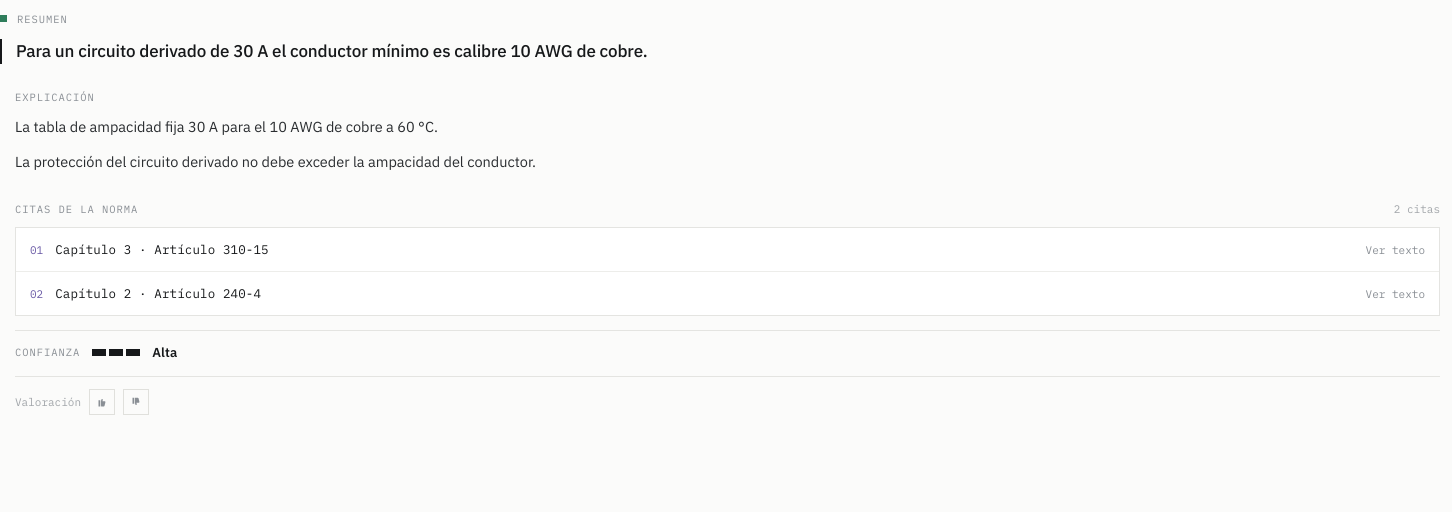
ResponseAnatomy › opens the text of a citation in place, without leaving the conversation
Expected: the text "La ampacidad de los conductores se determina según la tabla 310-15(b)(16)." is not shown
Click the button "01 Capítulo 3 · Artículo 310-15 Ver texto": x=93, y=249 [16,228,1439,271]
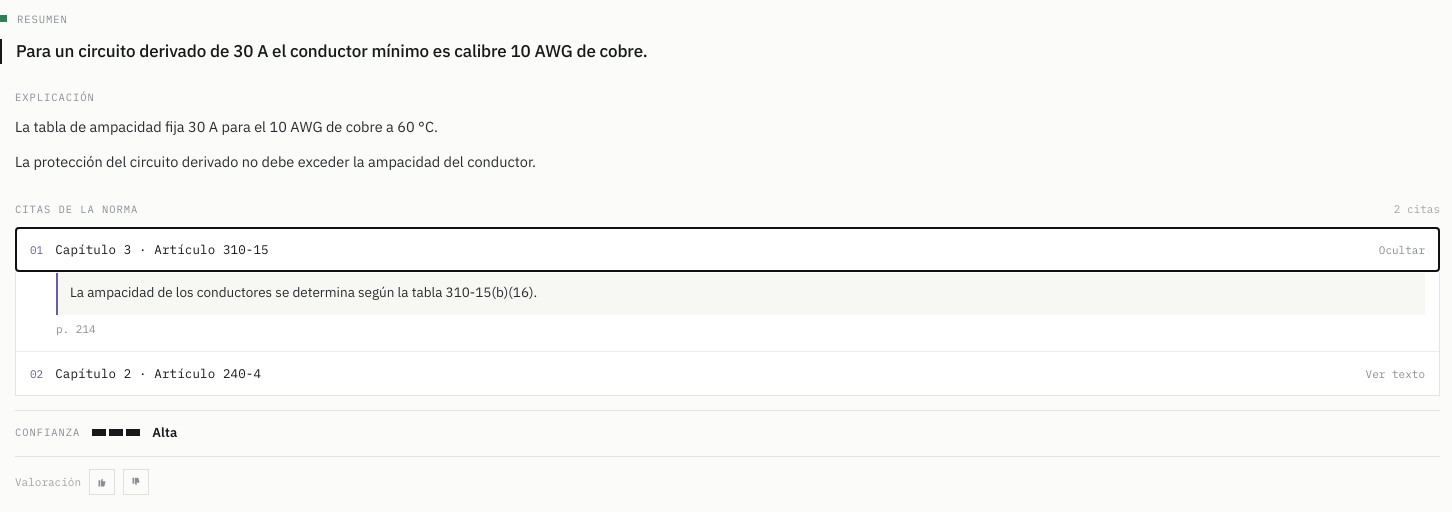
Result: the text "La ampacidad de los conductores se determina según la tabla 310-15(b)(16)." is shown at [56,271,1425,315]
Result: the text "p. 214" is shown at [56,322,96,336]
